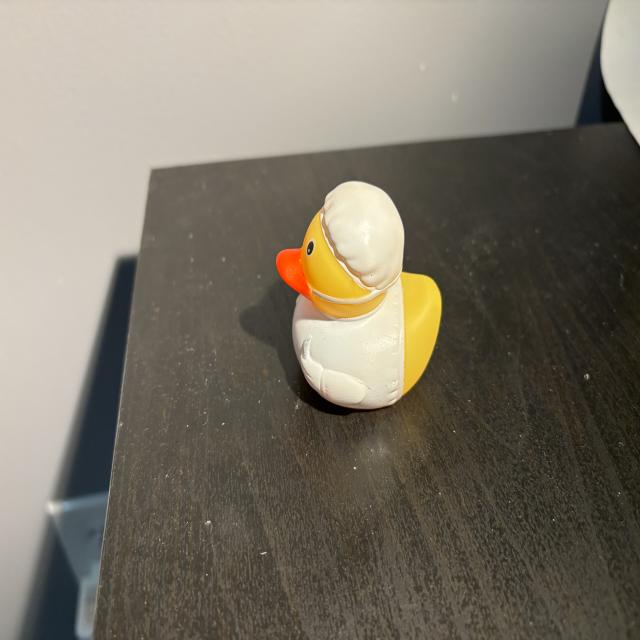duck_specialty: (278, 182, 442, 409)
